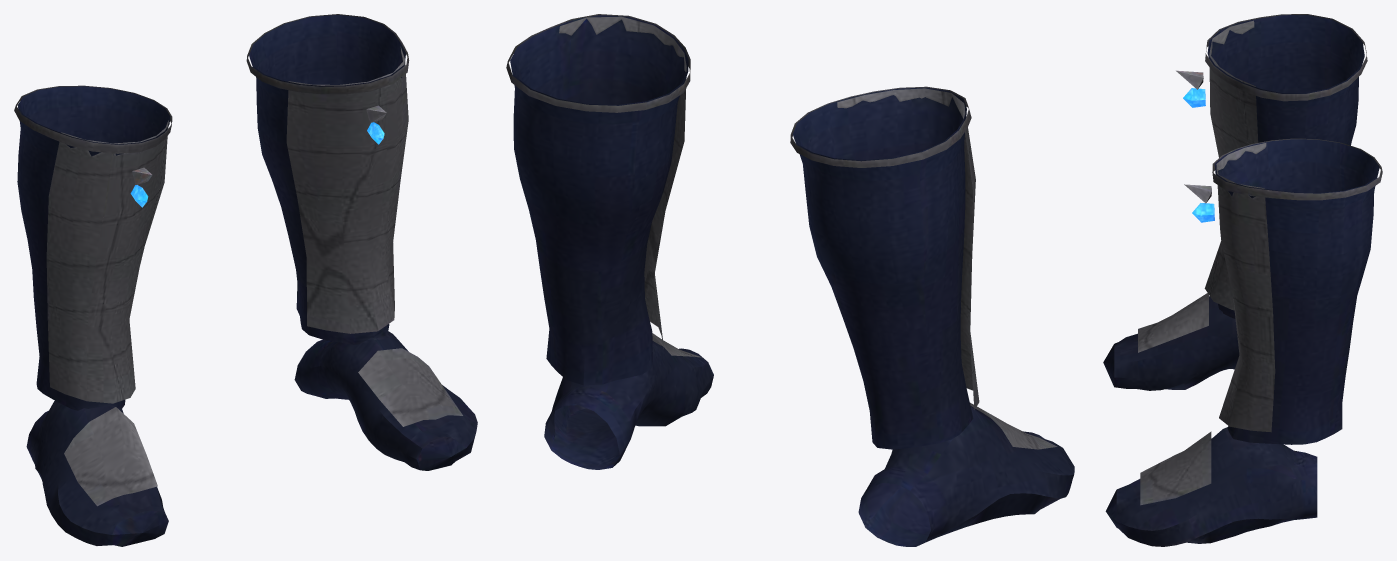
The model's file is Botas_de_Energia_nivel50.glb.
The picture shows the model from 3 angles, left to right: view 1: azimuth 30°, elevation 25°; view 2: azimuth 150°, elevation 25°; view 3: azimuth 270°, elevation 25°; orthographic projection. The views are drawn at different scales.
Parts seen in each view (by area): view 1: botas_de_energia_nivel50; view 2: botas_de_energia_nivel50; view 3: botas_de_energia_nivel50.
Part boxes in pixels (<box>): botas_de_energia_nivel50: <box>14,14,477,546</box>; botas_de_energia_nivel50: <box>506,14,1074,546</box>; botas_de_energia_nivel50: <box>1103,14,1382,546</box>.
Bounding box in the file's own units: 0.5105 × 0.4263 × 0.3045.
1 material, 1 textured.
